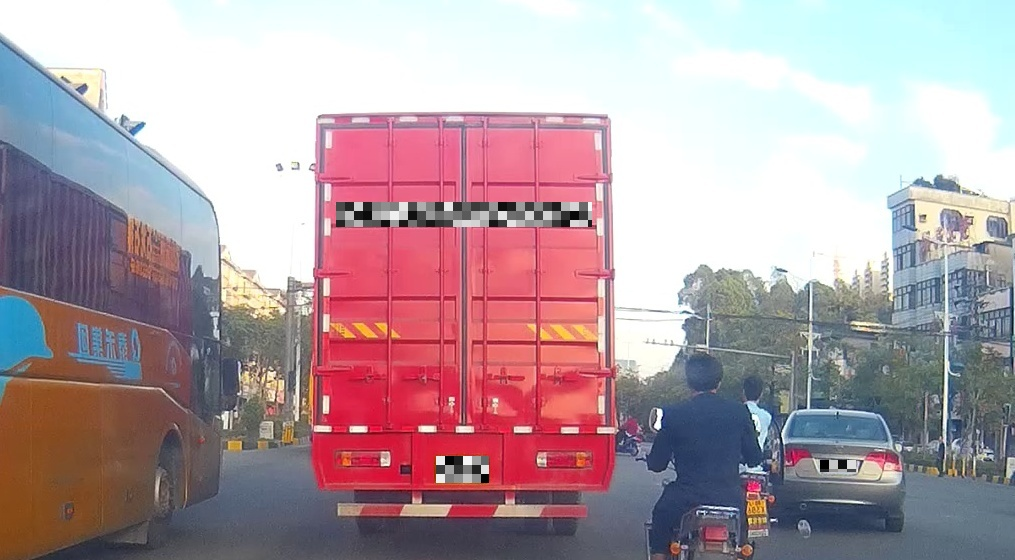L_light: (333, 450, 391, 468), (783, 447, 812, 466)
R_light: (535, 450, 592, 468), (864, 451, 902, 471)
T_light: (443, 127, 484, 142), (831, 415, 845, 421)
day-no: (307, 112, 615, 535)
day-right: (780, 409, 905, 533)
plate_1: (336, 202, 592, 227)
plate_2: (436, 456, 489, 483)
plate_3: (820, 460, 856, 472)
